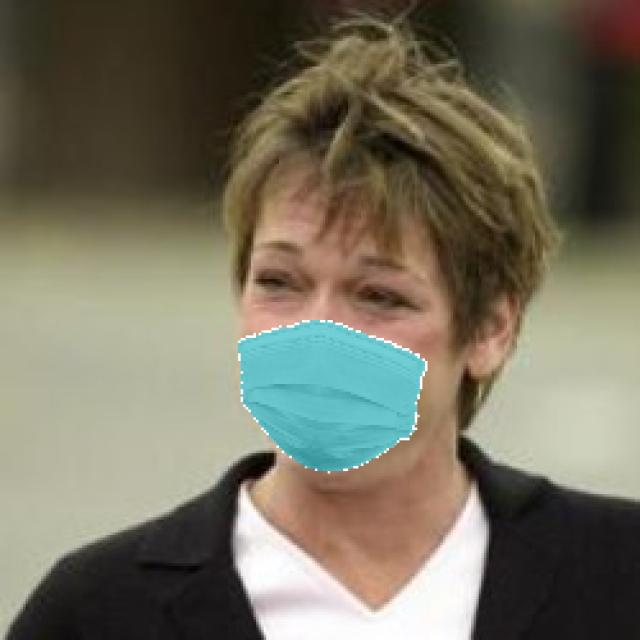mask: (230, 316, 454, 479)
